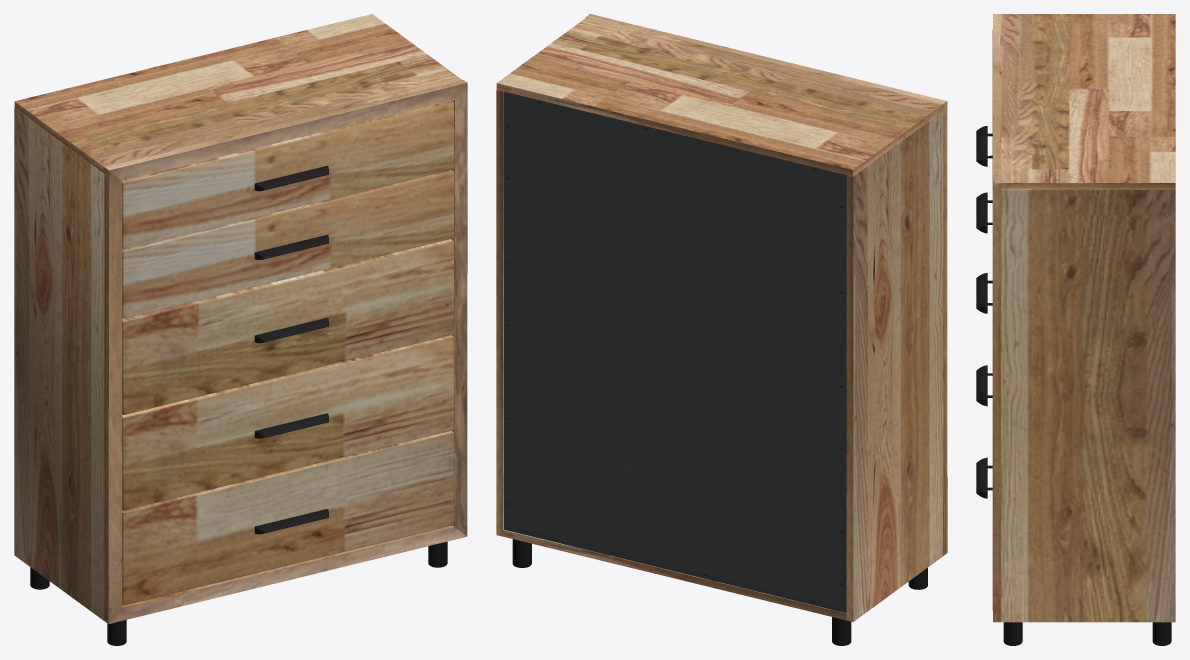
3 views of the same model, side by side, from view 1: azimuth 30°, elevation 25°; view 2: azimuth 150°, elevation 25°; view 3: azimuth 270°, elevation 25° (orthographic). The views are drawn at different scales.
Parts seen in each view (by area): view 1: visual_RootNode; view 2: visual_RootNode; view 3: visual_RootNode.
Boxes of the visible parts, box(x1,y1,x2,y2) form: visual_RootNode: box(14, 14, 467, 645); visual_RootNode: box(496, 14, 947, 645); visual_RootNode: box(976, 14, 1175, 645).
Bounding box in the file's own units: 0.9659 × 0.4805 × 1.24.
1 material, 1 textured.
